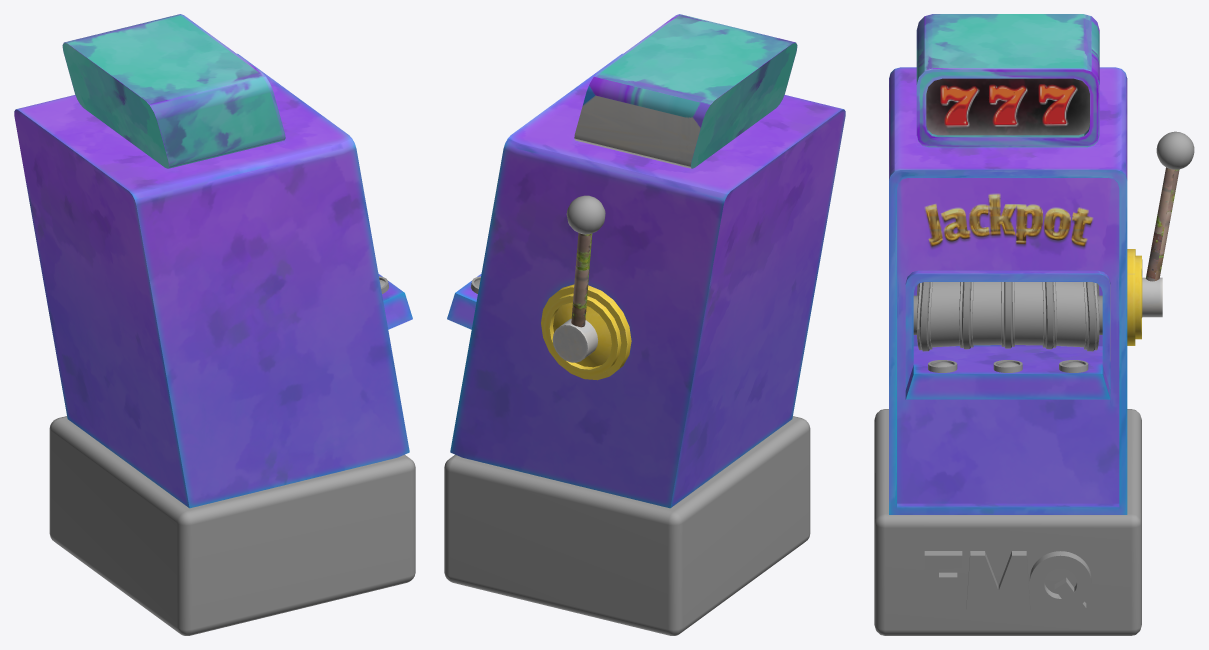
File: INV_SlotMachine_01.fbx
The picture shows the model from 3 angles, left to right: view 1: azimuth 30°, elevation 25°; view 2: azimuth 150°, elevation 25°; view 3: azimuth 270°, elevation 25°; orthographic projection. The views are drawn at different scales.
Parts seen in each view (by area): view 1: INV_SlotMachine_01; view 2: INV_SlotMachine_01; view 3: INV_SlotMachine_01.
Boxes of the visible parts, x1,y1,x2,y2 form: INV_SlotMachine_01: (14,14,415,635); INV_SlotMachine_01: (444,14,845,635); INV_SlotMachine_01: (874,14,1194,635).
Size of the model in its own units: 136 by 236 by 134.
